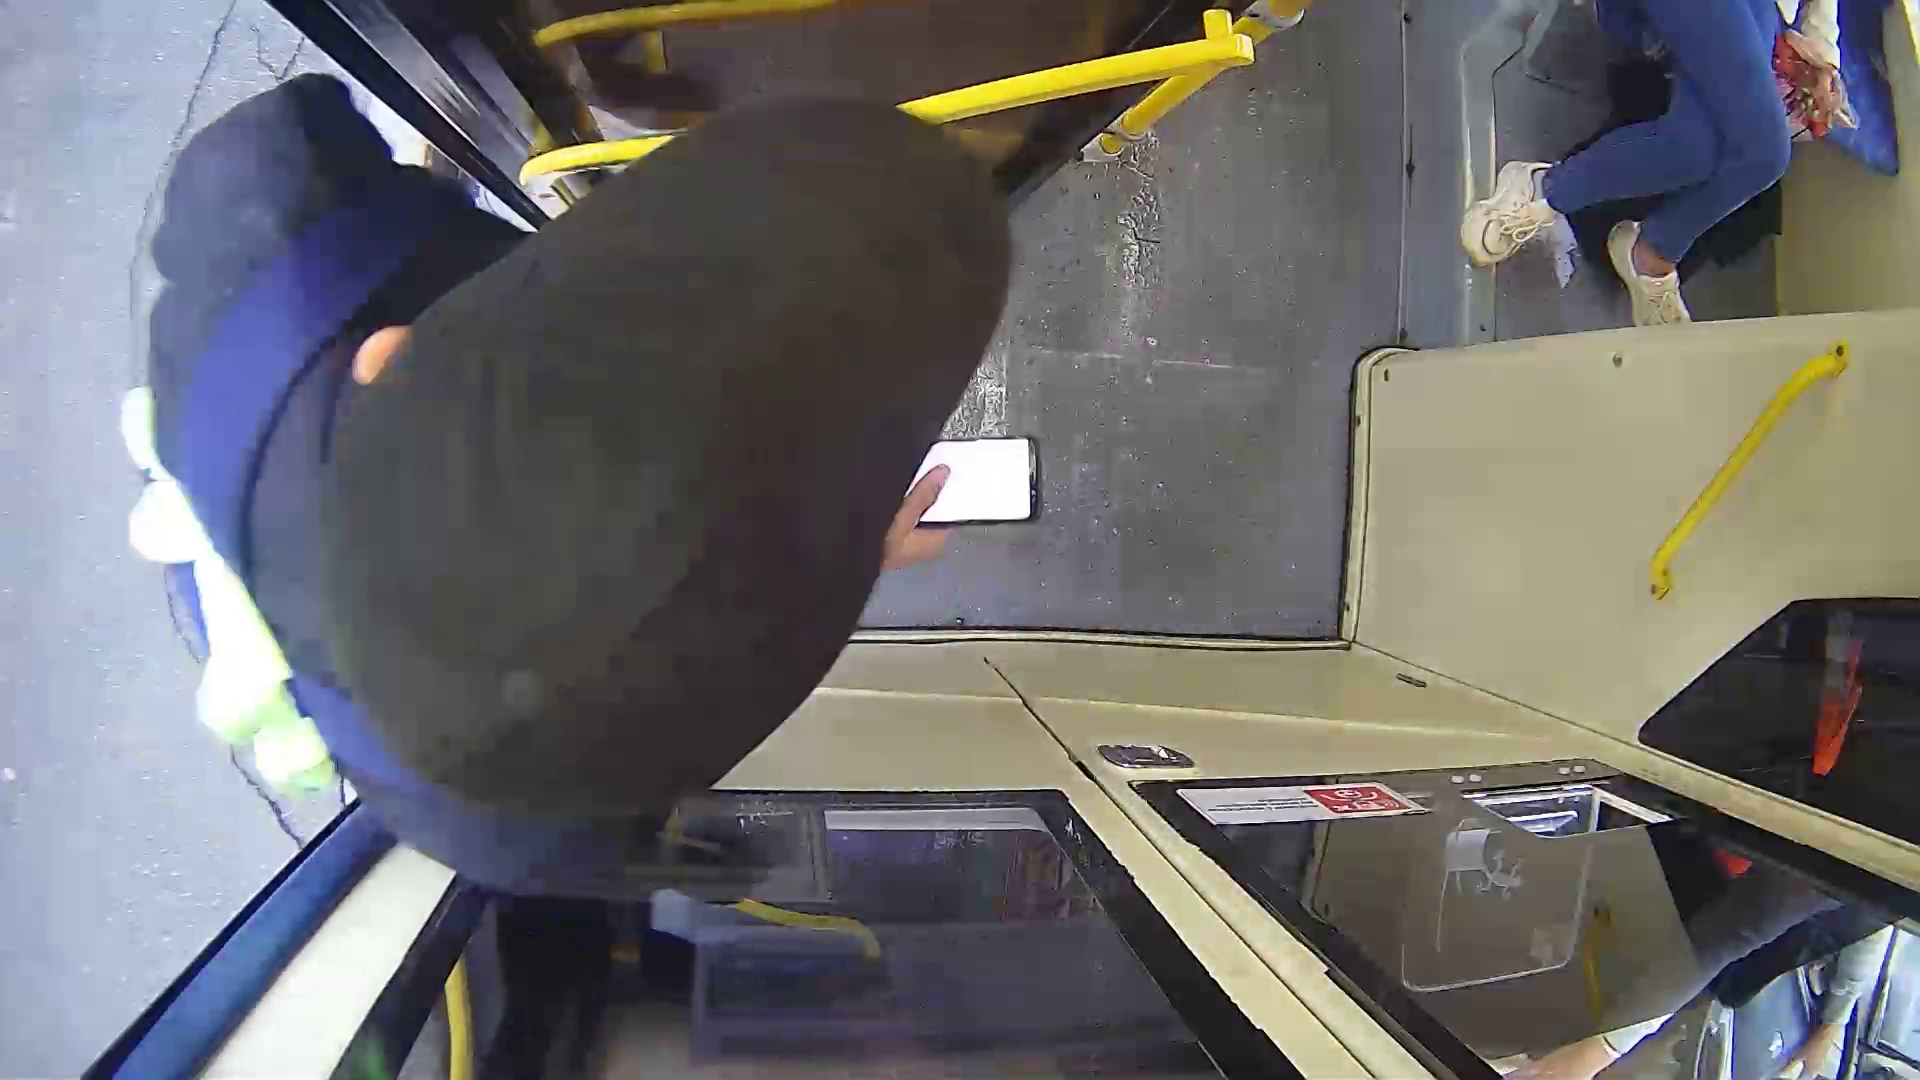person: (105, 65, 1000, 926)
